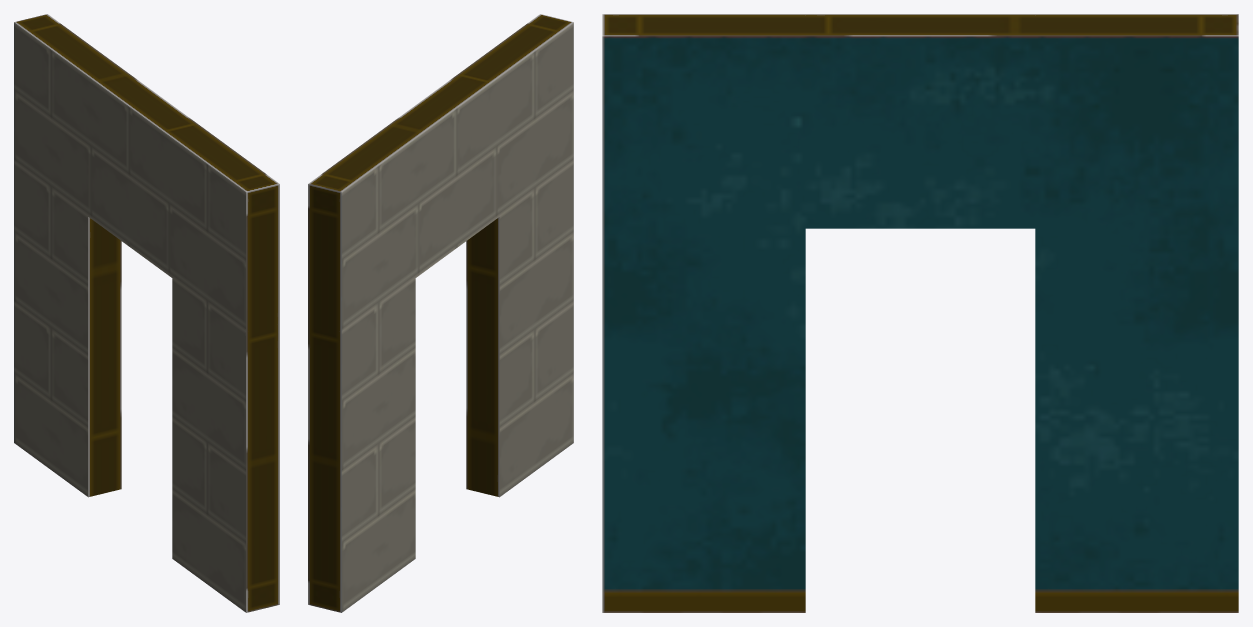
The model's file is Wall_Door_09.fbx.
3 renders of one model, left to right at view 1: azimuth 30°, elevation 25°; view 2: azimuth 150°, elevation 25°; view 3: azimuth 270°, elevation 25°, orthographic. The views are drawn at different scales.
Visible parts, largest first — view 1: Wall_Door_09; view 2: Wall_Door_09; view 3: Wall_Door_09.
Part boxes in pixels (x1,y1,x2,y2): Wall_Door_09: (14, 14, 279, 612); Wall_Door_09: (308, 14, 573, 612); Wall_Door_09: (602, 14, 1238, 612).
Bounding box in the file's own units: 50 × 600 × 600.
